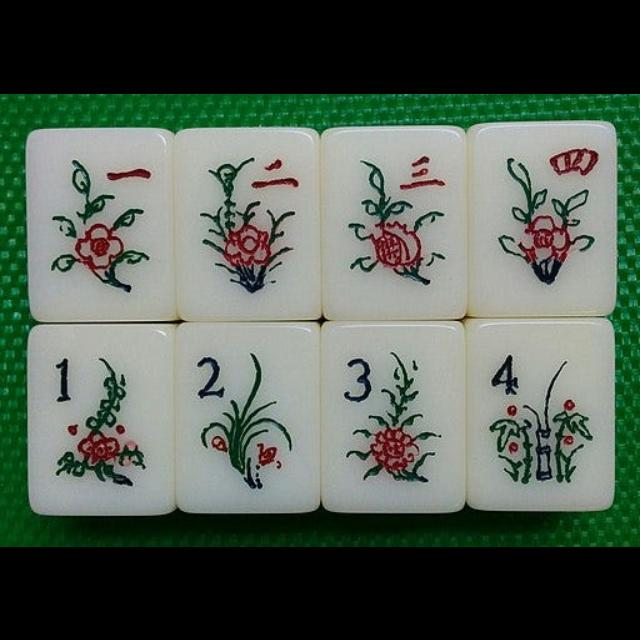f1-s: (33, 328, 174, 512)
f2-s: (175, 326, 318, 510)
f3-s: (322, 324, 462, 508)
f4-s: (468, 323, 614, 507)
s1-s: (28, 132, 172, 318)
s2-s: (176, 128, 322, 318)
s3-s: (325, 130, 463, 314)
s4-s: (472, 126, 612, 312)
